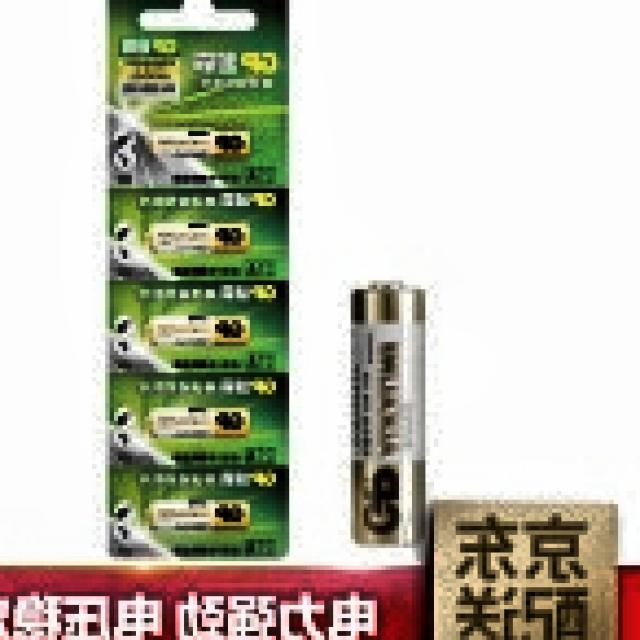Non-Valuable Waste - Batteries: (352, 283, 426, 544)
